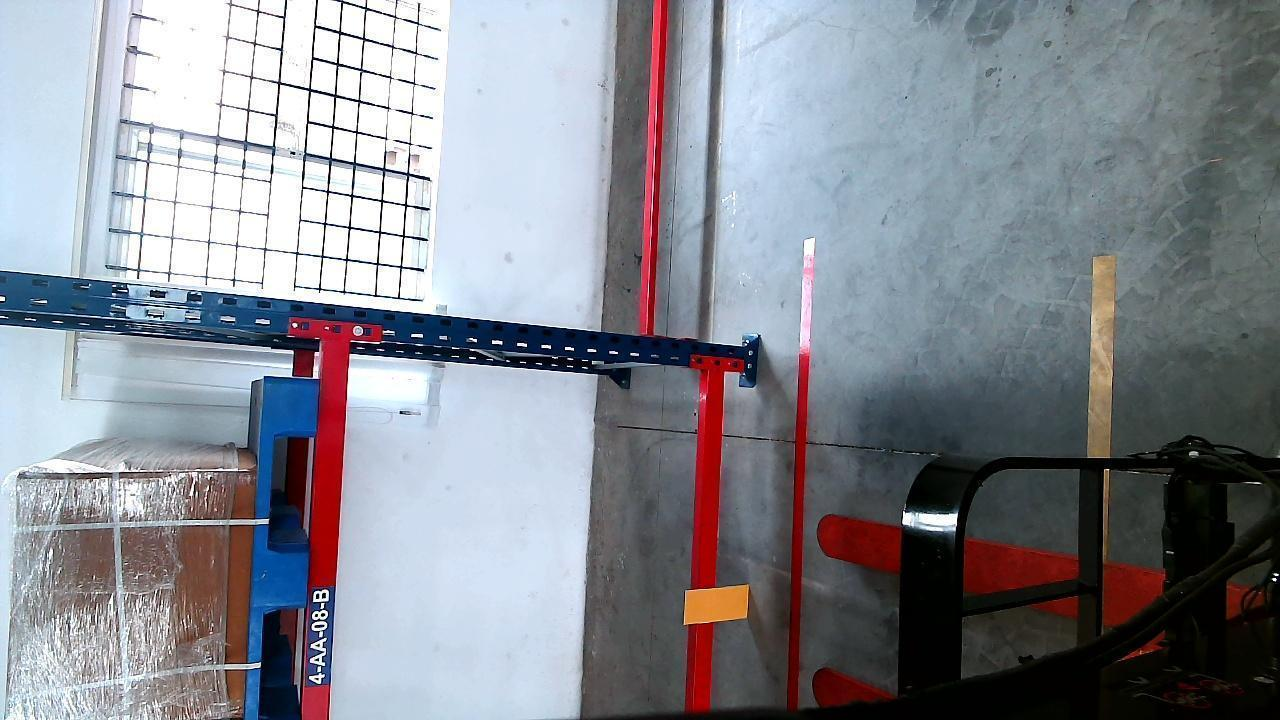red_line: (784, 248, 815, 702)
yellow_line: (1088, 251, 1114, 456)
